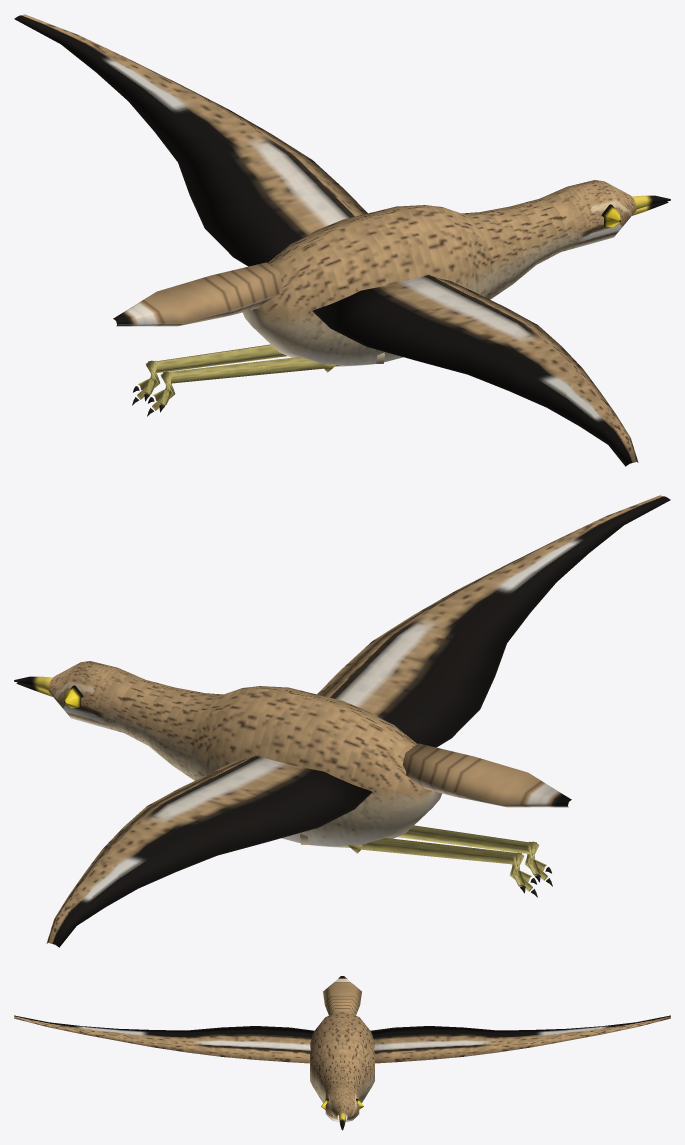
Rendered from curlew_flight_lod1.glb.
The picture shows the model from 3 angles, top to bottom: view 1: azimuth 30°, elevation 25°; view 2: azimuth 150°, elevation 25°; view 3: azimuth 270°, elevation 25°; orthographic projection. The views are drawn at different scales.
Parts seen in each view (by area): view 1: curlew_body; view 2: curlew_body; view 3: curlew_body.
Part boxes in pixels (<box>): curlew_body: <box>14,14,670,466</box>; curlew_body: <box>14,495,670,947</box>; curlew_body: <box>14,976,670,1130</box>.
Bounding box in the file's own units: 0.4281 × 0.1059 × 0.8155.
1 material, 1 textured.
